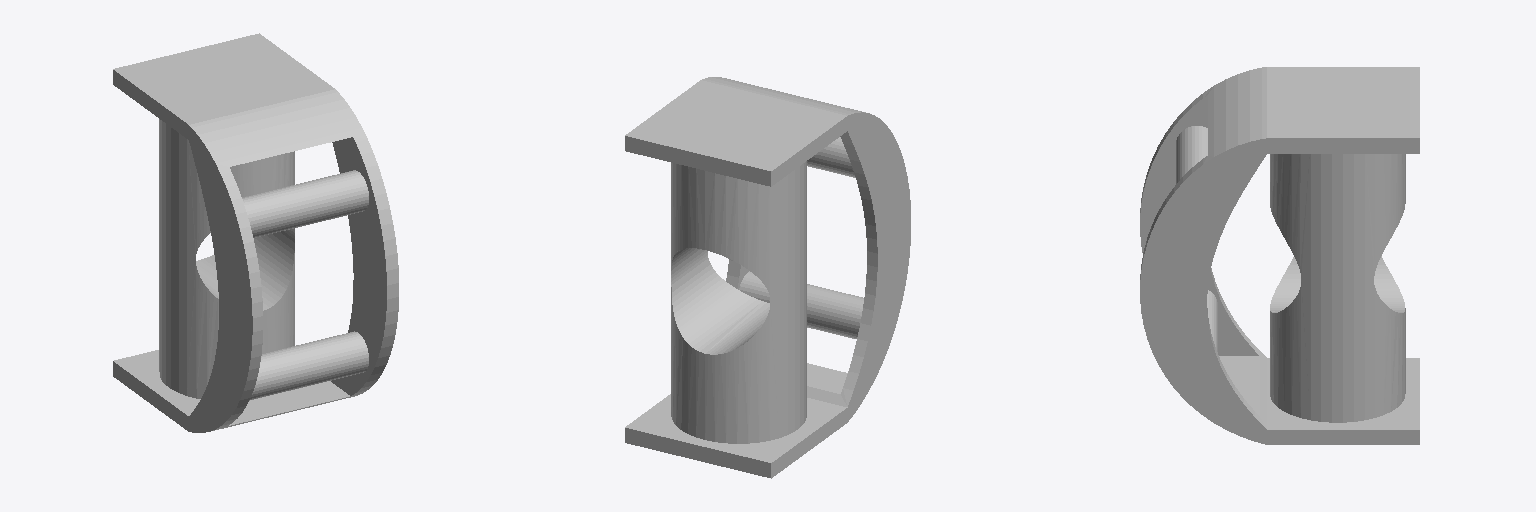
The model's file is viper_L_steer.obj.
3 views of the same model, side by side, from view 1: azimuth 30°, elevation 25°; view 2: azimuth 150°, elevation 25°; view 3: azimuth 270°, elevation 25° (orthographic).
Visible parts, largest first — view 1: viper_L_steer; view 2: viper_L_steer; view 3: viper_L_steer.
Boxes of the visible parts, x1,y1,x2,y2 form: viper_L_steer: [113, 33, 398, 432]; viper_L_steer: [625, 77, 910, 478]; viper_L_steer: [1140, 67, 1419, 444].
Size of the model in its own units: 0.1 by 0.2 by 0.1652.